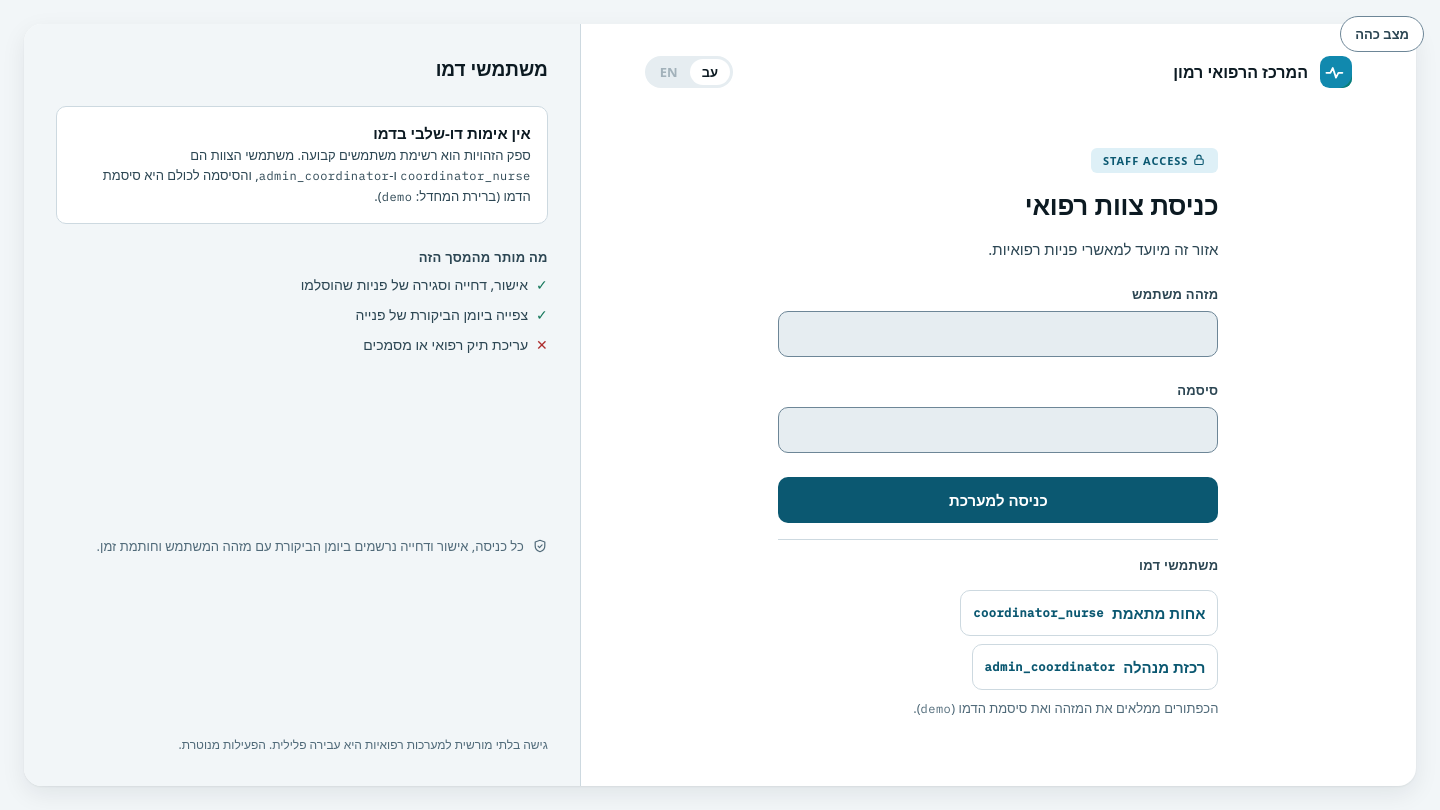
Test: StaffLogin › reports wrong credentials
Type "coordinator_nurse" into the field labelled "מזהה משתמש" at (998, 334), box top-left (779, 312), bottom-right (1217, 356)
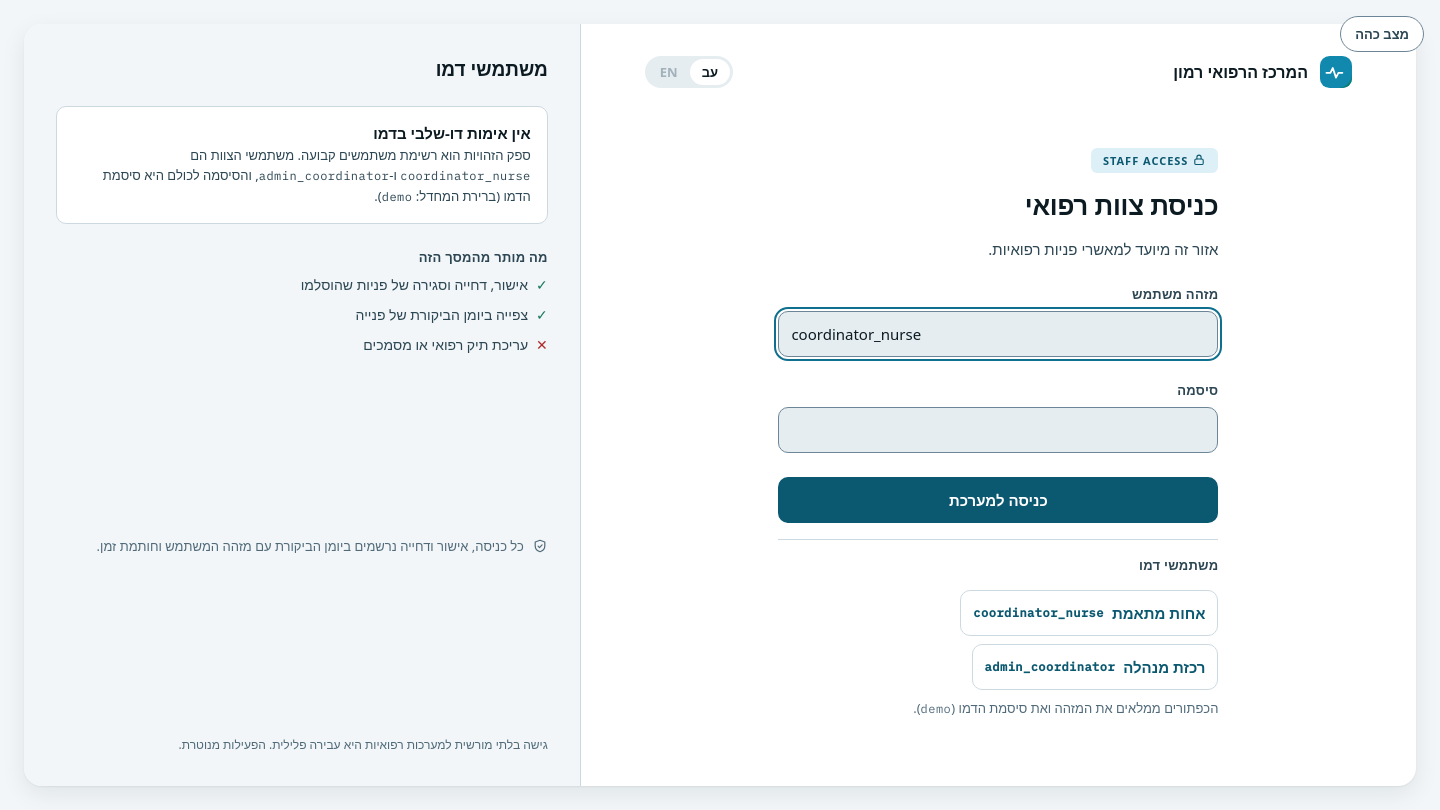
Type "wrong" into the password field labelled "סיסמה" at (998, 430), box top-left (779, 408), bottom-right (1217, 452)
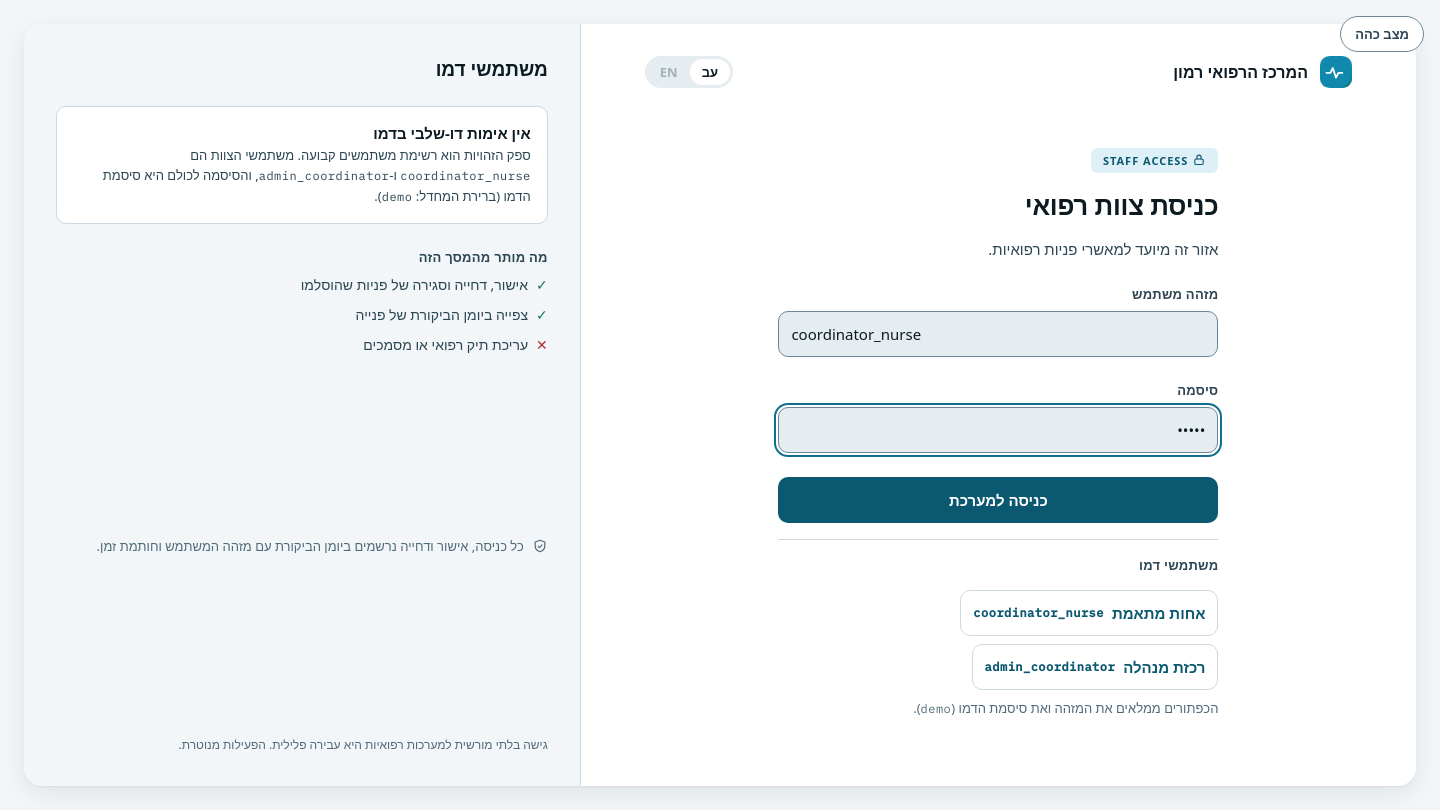
Click the button "כניסה למערכת" at (998, 500), box top-left (778, 476), bottom-right (1218, 522)
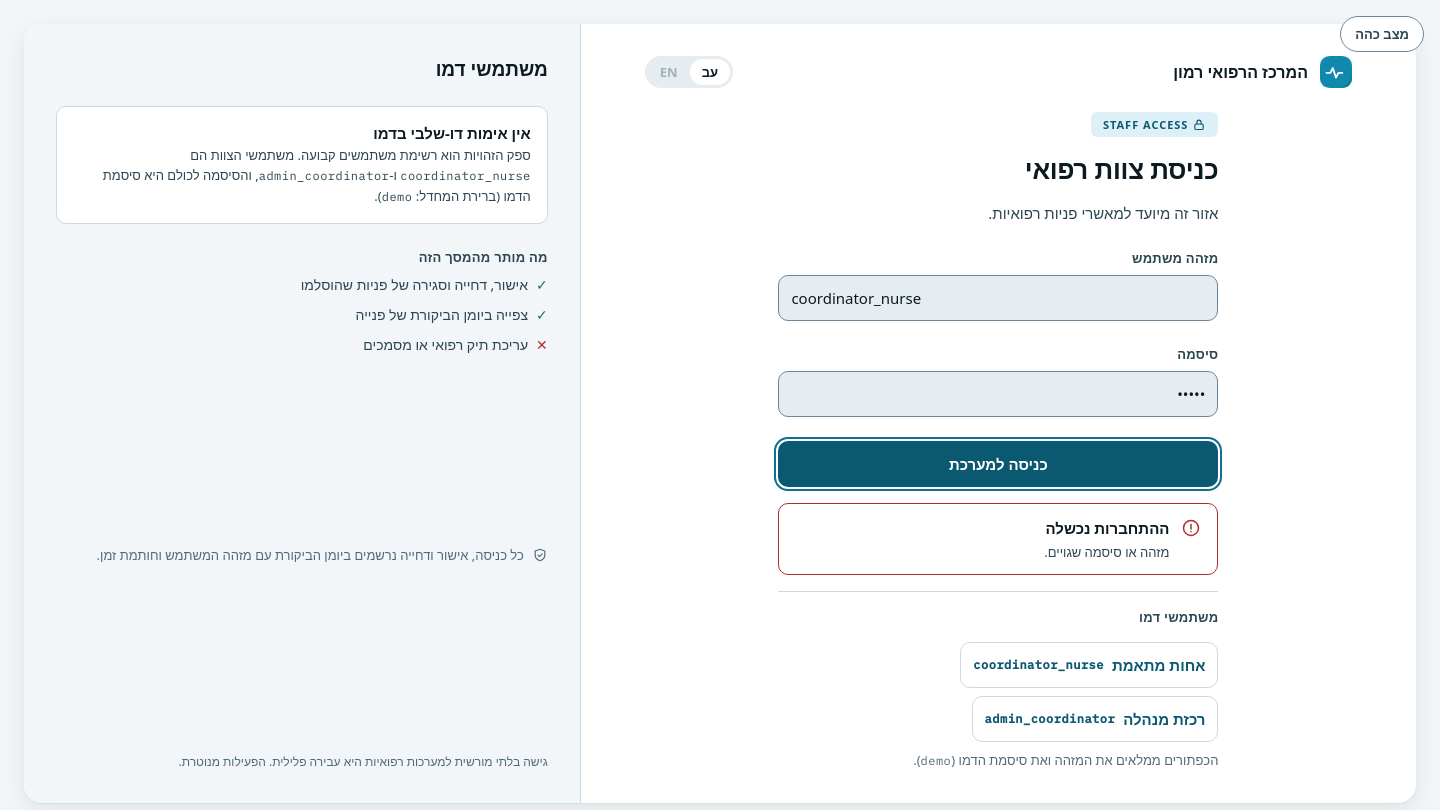
Expected: the message shows "מזהה או סיסמה שגויים.", top-left (1044, 543), bottom-right (1169, 561)
